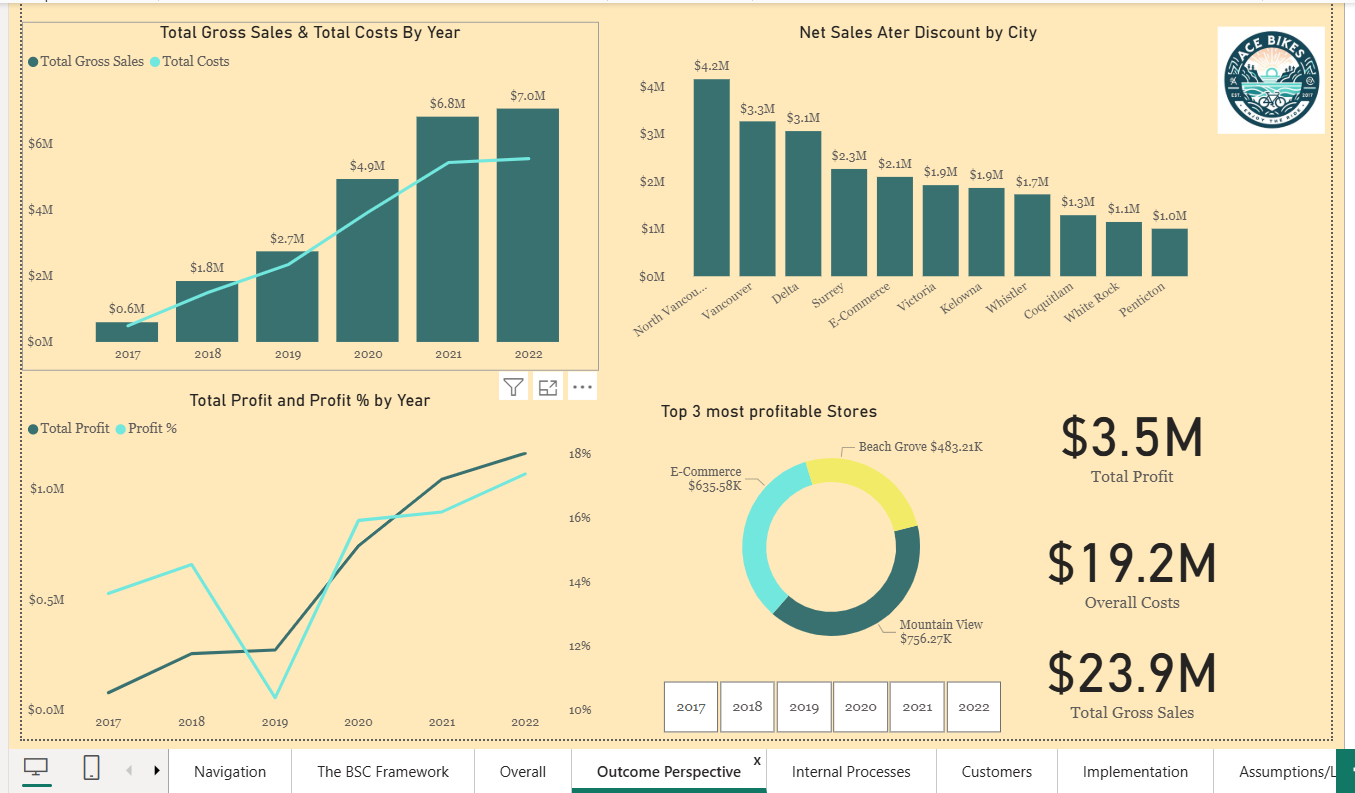

What the dashboard file says about the page in this screenshot:
{"tool":"powerbi","page":{"name":"Outcome Perspective","canvas":[1280,720],"ordinal":3},"visuals":[{"type":"lineChart","fields":{"Y":["SalesbyLocationbyMonthbyCategory.Total Profit"],"Y2":["SalesbyLocationbyMonthbyCategory.Profit %"],"Category":["Filter Control.Year"]},"box":[0,378.3,563.2,341.3],"z":0},{"type":"clusteredColumnChart","fields":{"Category":["Locations.City"],"Y":["SalesbyLocationbyMonthbyCategory.Net Sales Ater Discount"]},"box":[589.4,18.3,574.7,341.2],"z":1000},{"type":"card","fields":{"Values":["SalesbyLocationbyMonthbyCategory.Total Profit"]},"box":[981.9,377.9,209.1,96.6],"z":2000},{"type":"card","fields":{"Values":["TotalCostsbyLocationbyMonth.Overall Costs"]},"box":[981.9,500.1,209.1,97.8],"z":3000},{"type":"card","fields":{"Values":["SalesbyLocationbyMonthbyCategory.Total Gross Sales"]},"box":[981.9,607.7,209.1,97.8],"z":4000},{"type":"slicer","fields":{"Values":["Filter Control.Year"]},"box":[601.6,656.7,380.3,63.6],"z":5000},{"type":"lineClusteredColumnComboChart","title":"Total Gross Sales & Total Costs By Year","fields":{"Category":["Filter Control.Year"],"Y":["SalesbyLocationbyMonthbyCategory.Total Gross Sales"],"Y2":["Sum(TotalCostsbyLocationbyMonth.TotalCost)"]},"box":[0,18.3,563.7,341.2],"z":6000},{"type":"donutChart","title":"Top 3 most profitable Stores ","fields":{"Y":["SalesbyLocationbyMonthbyCategory.Total Profit"],"Category":["Locations.Store Name"]},"box":[620,388.9,343.6,267.8],"z":7000},{"type":"image","box":[1164.1,18.3,116.2,114.9],"z":8000}]}

Visuals, with their boxes on the page's 1280x720 design canvas (x1, y1, x2, y2). These are canvas units, not pixel positions in the 1355x793 screenshot, which may show the page scaled, cropped or inside an application window:
lineChart - SalesbyLocationbyMonthbyCategory.Total Profit x SalesbyLocationbyMonthbyCategory.Profit %: 0:378:563:720
clusteredColumnChart - Locations.City x SalesbyLocationbyMonthbyCategory.Net Sales Ater Discount: 589:18:1164:360
card - SalesbyLocationbyMonthbyCategory.Total Profit: 982:378:1191:474
card - TotalCostsbyLocationbyMonth.Overall Costs: 982:500:1191:598
card - SalesbyLocationbyMonthbyCategory.Total Gross Sales: 982:608:1191:706
slicer - Filter Control.Year: 602:657:982:720
"Total Gross Sales & Total Costs By Year" lineClusteredColumnComboChart: 0:18:564:360
"Top 3 most profitable Stores " donutChart: 620:389:964:657
image: 1164:18:1280:133
